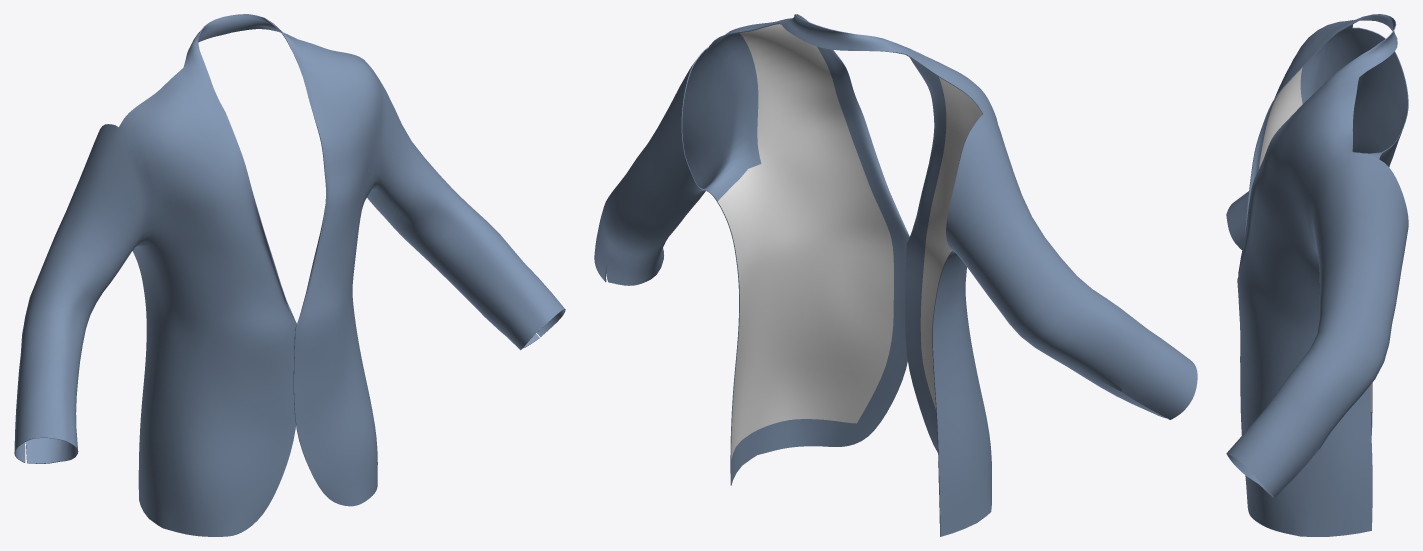
The model's file is SM_CarlosSA_Jacket_FixedClothing_0001.fbx.
3 views of the same model, side by side, from view 1: azimuth 30°, elevation 25°; view 2: azimuth 150°, elevation 25°; view 3: azimuth 270°, elevation 25° (orthographic). The views are drawn at different scales.
Visible parts, largest first — view 1: SM_CarlosSA_Jacket_FixedClothing_0001; view 2: SM_CarlosSA_Jacket_FixedClothing_0001; view 3: SM_CarlosSA_Jacket_FixedClothing_0001.
Part boxes in pixels (bbox=[...]): SM_CarlosSA_Jacket_FixedClothing_0001: bbox=[14, 14, 565, 536]; SM_CarlosSA_Jacket_FixedClothing_0001: bbox=[594, 14, 1197, 536]; SM_CarlosSA_Jacket_FixedClothing_0001: bbox=[1226, 14, 1408, 536].
Size of the model in its own units: 0.983 by 0.7755 by 0.2791.
